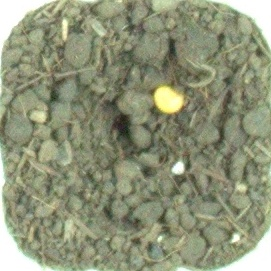pepper seed: (58, 27, 245, 141)
